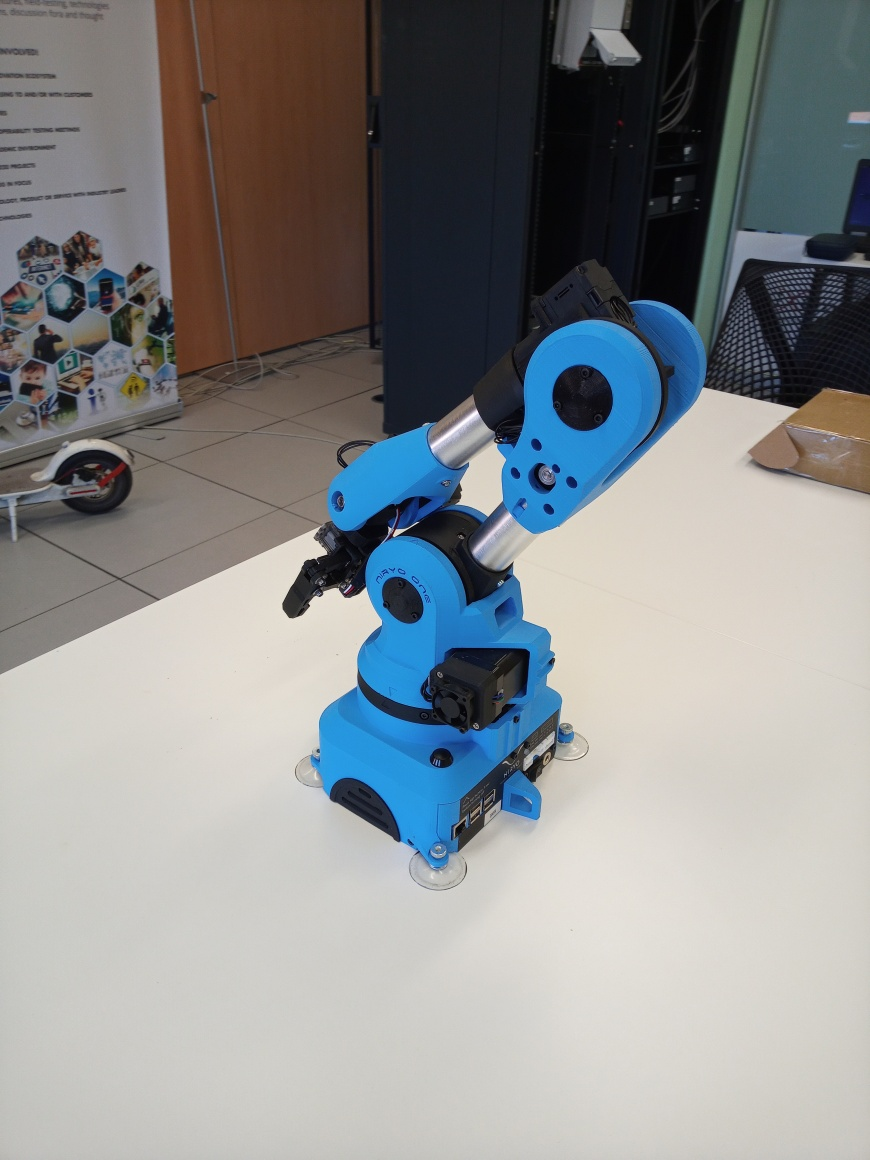robot: (281, 259, 707, 892)
